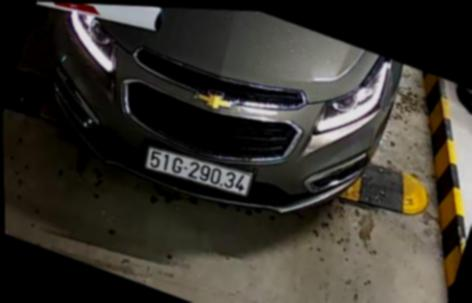License_Plate: (142, 145, 260, 204)
